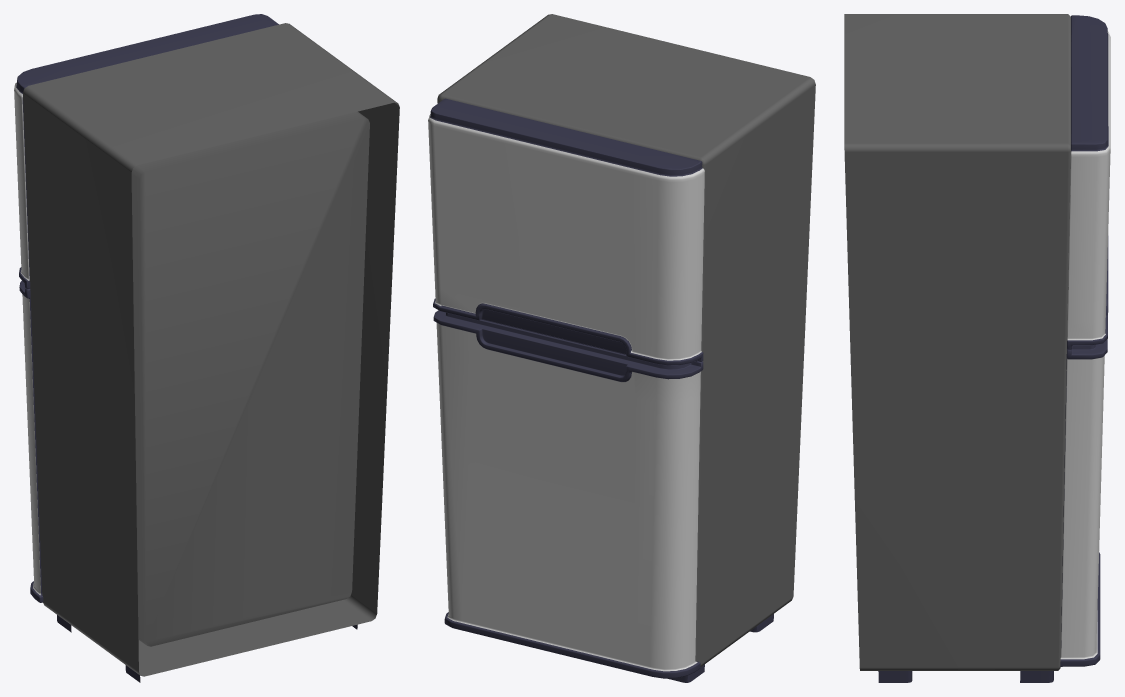
File: Fridge.fbx
3 renders of one model, left to right at view 1: azimuth 30°, elevation 25°; view 2: azimuth 150°, elevation 25°; view 3: azimuth 270°, elevation 25°, orthographic. The views are drawn at different scales.
Parts seen in each view (by area): view 1: FridgeBase, Fridge_DoorTop, Fridge_DoorBottom; view 2: FridgeBase, Fridge_DoorBottom, Fridge_DoorTop; view 3: FridgeBase, Fridge_DoorTop, Fridge_DoorBottom.
Boxes of the visible parts, x1,y1,x2,y2 form: FridgeBase: [23, 23, 399, 682]; Fridge_DoorTop: [14, 14, 278, 289]; Fridge_DoorBottom: [19, 281, 43, 602]; FridgeBase: [437, 14, 815, 682]; Fridge_DoorBottom: [433, 310, 703, 678]; Fridge_DoorTop: [428, 98, 704, 365]; FridgeBase: [844, 14, 1070, 682]; Fridge_DoorTop: [1067, 15, 1110, 349]; Fridge_DoorBottom: [1060, 339, 1107, 666].
Size of the model in its own units: 88.07 by 168 by 73.58.
